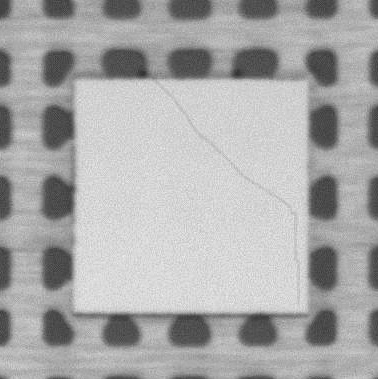DIE_CRACK: (154, 81, 299, 306)
